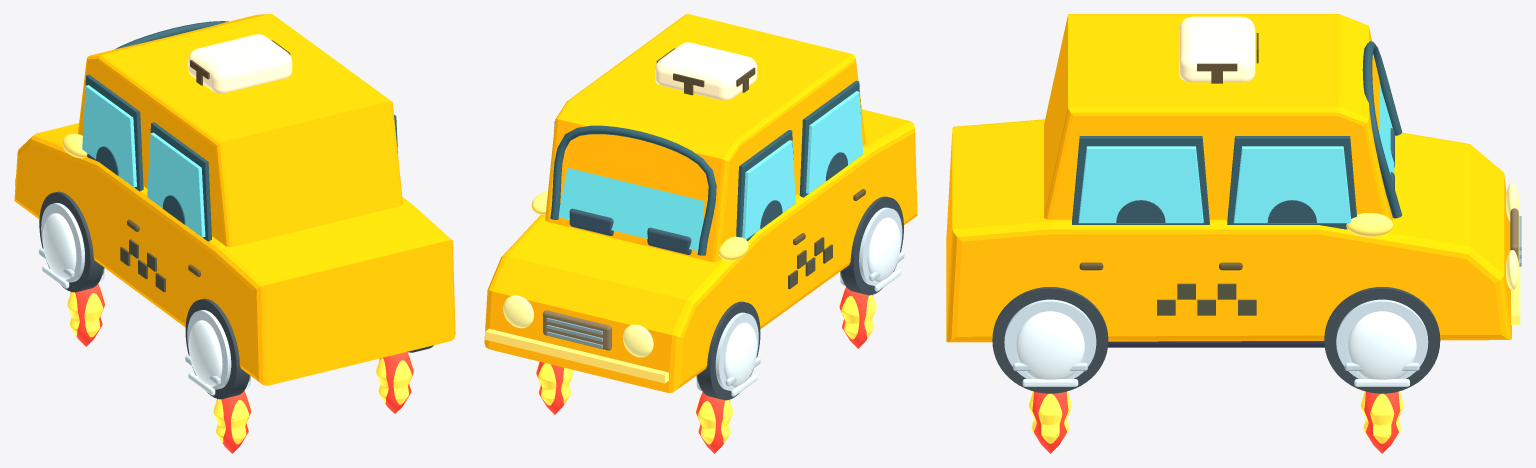
Rendered from ship-29.glb.
3 views of the same model, side by side, from view 1: azimuth 30°, elevation 25°; view 2: azimuth 150°, elevation 25°; view 3: azimuth 270°, elevation 25° (orthographic). The views are drawn at different scales.
Visible parts, largest first — view 1: 택시, engine-flame (×3); view 2: 택시, engine-flame (×3); view 3: 택시, engine-flame (×2).
Part boxes in pixels (x1,y1,x2,y2): 택시: (14, 14, 455, 399); engine-flame (×3): (67, 284, 413, 453); 택시: (484, 14, 917, 400); engine-flame (×3): (536, 287, 876, 453); 택시: (946, 14, 1521, 393); engine-flame (×2): (1028, 391, 1403, 453).
Size of the model in its own units: 14.32 by 19.41 by 27.
